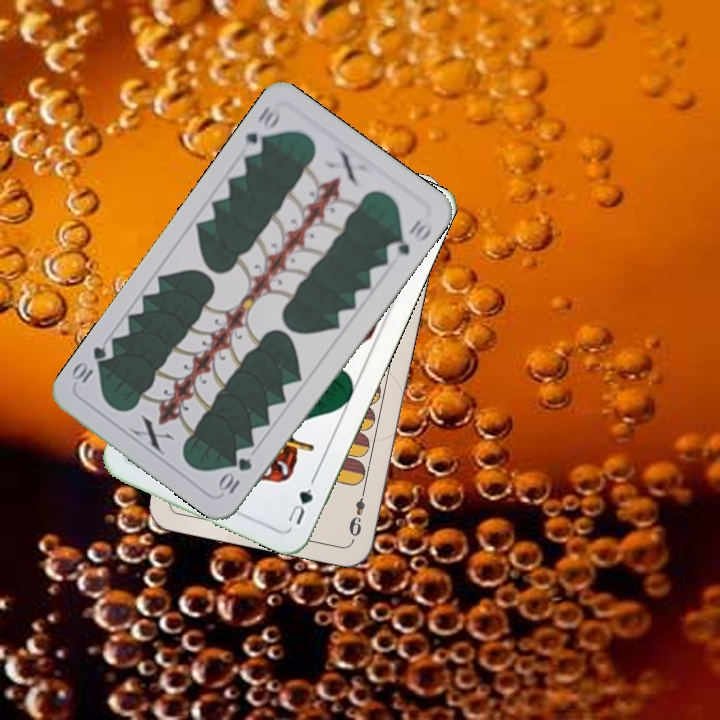E9: (345, 484, 369, 539)
G10: (238, 100, 285, 159), (215, 453, 255, 497)
GU: (283, 484, 316, 528)
